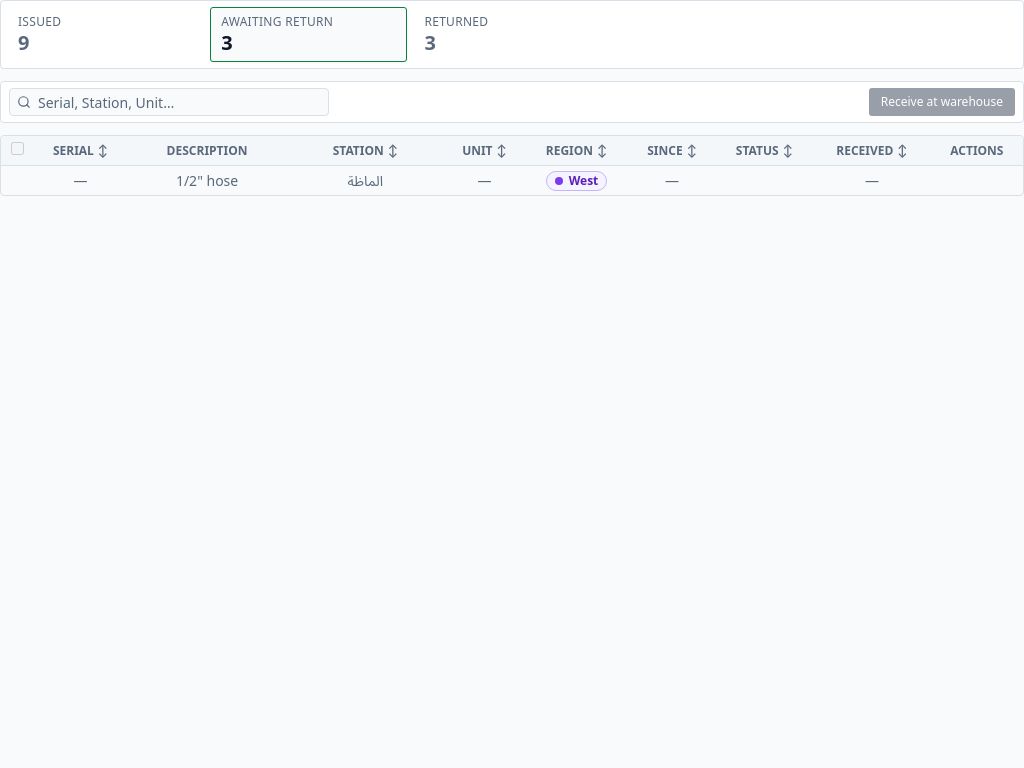
Undo an issue (owner request 2026-10-03) › EQW-11 the Log has an Issued movement; undoing with the hose still at the station sends await_return and no actor
Click the button "Issued 9" at (106, 34), box [7, 7, 204, 62]
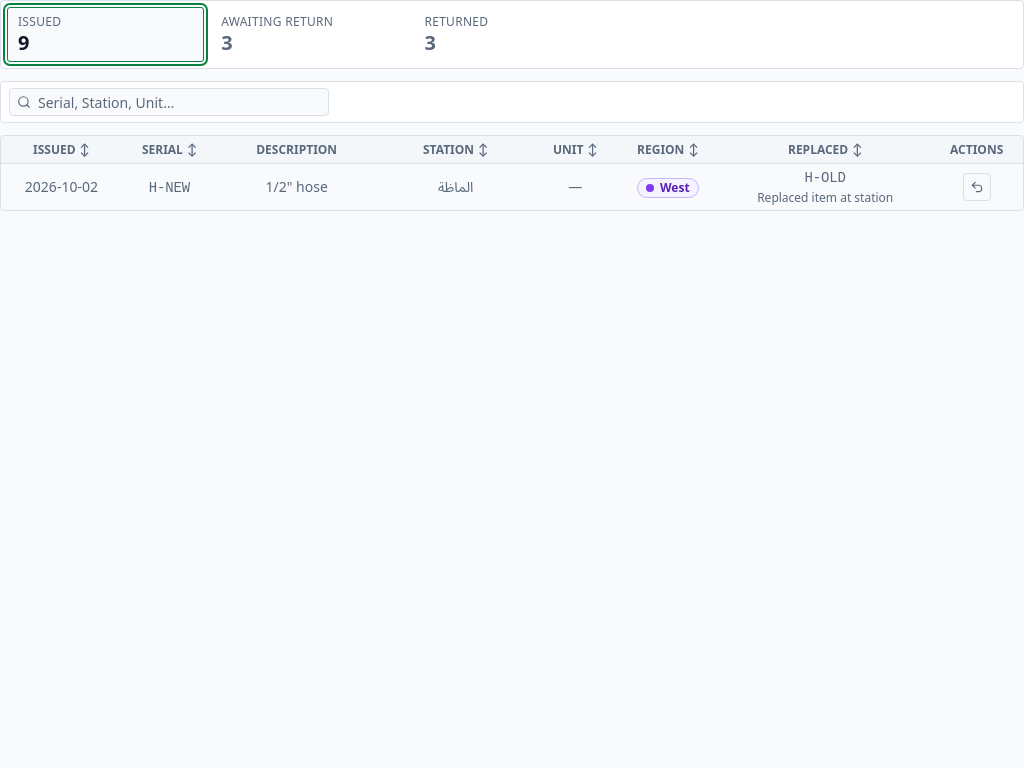
Click the button named "Undo this issue" at (977, 187), box [963, 173, 991, 201]
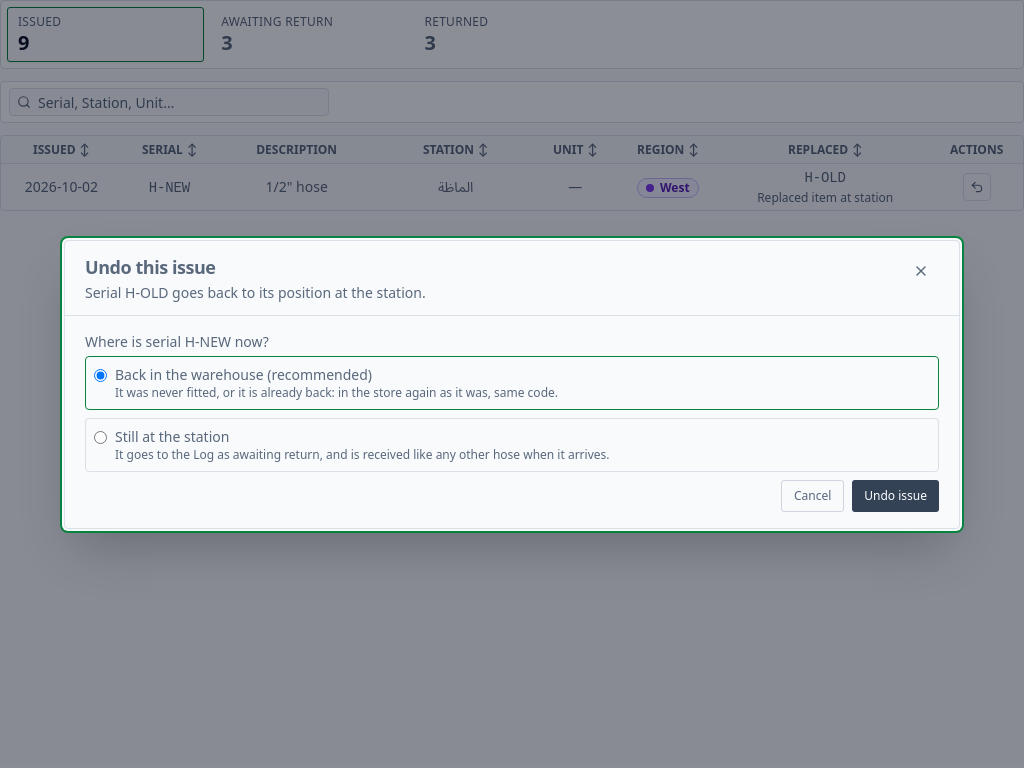
Now the text "Serial H-OLD goes back to its position at the station." is shown, box [85, 282, 426, 302]
Click the radio button labelled "Still at the station" at (100, 437), box [94, 430, 107, 444]
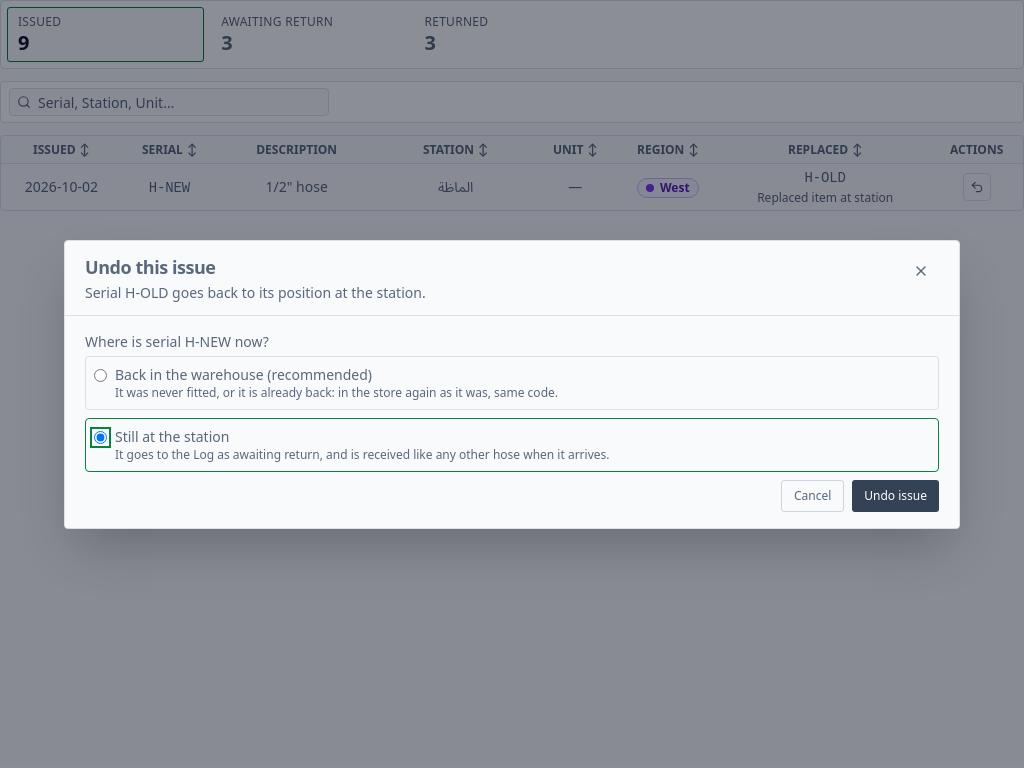
Click the button "Undo issue" at (896, 496), box [852, 480, 939, 512]
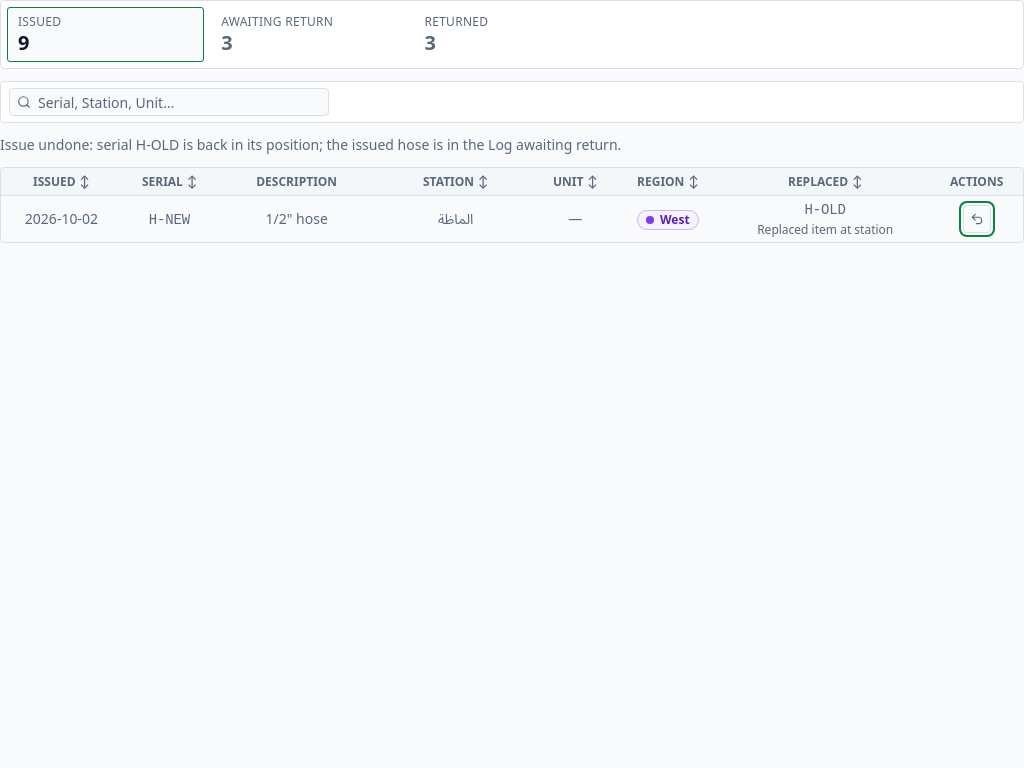
Now the text "the issued hose is in the Log awaiting return" is shown, box [0, 135, 621, 154]
